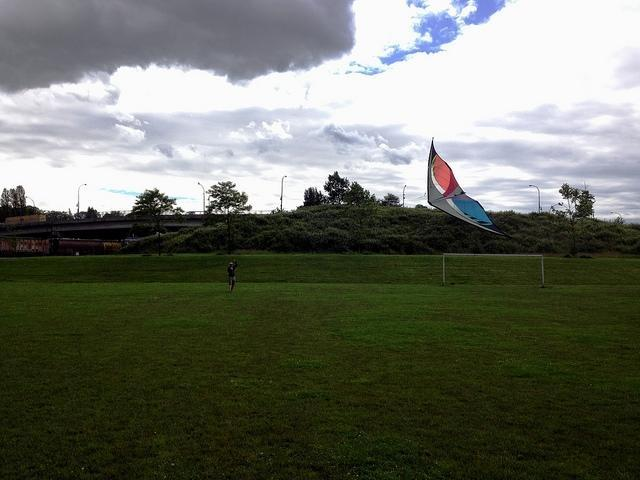truck: (6, 215, 46, 229)
